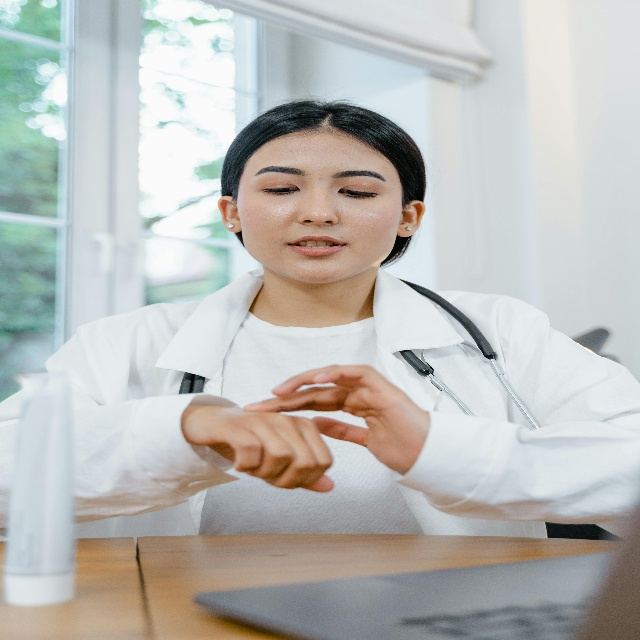Sin_guantes: (243, 360, 415, 477), (186, 408, 335, 493)
